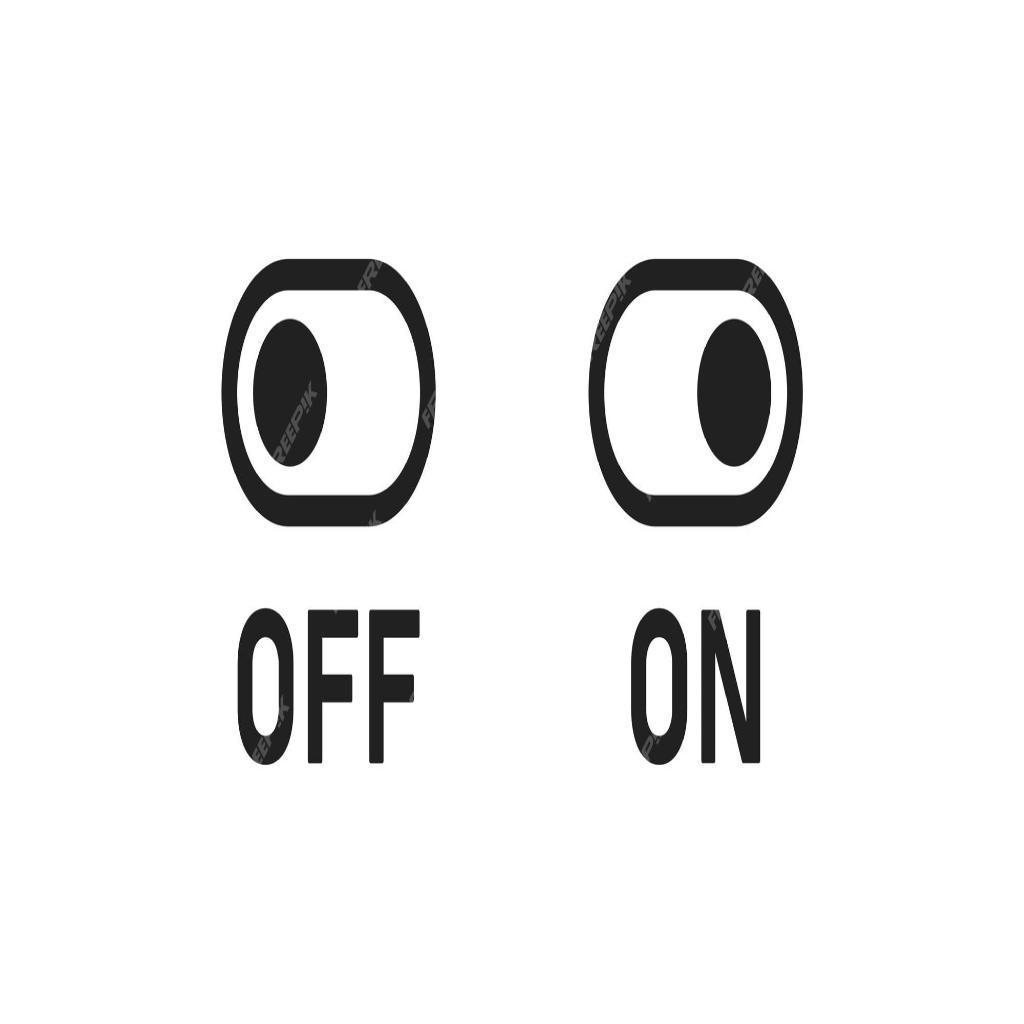switch: (585, 258, 808, 530), (221, 258, 440, 531)
